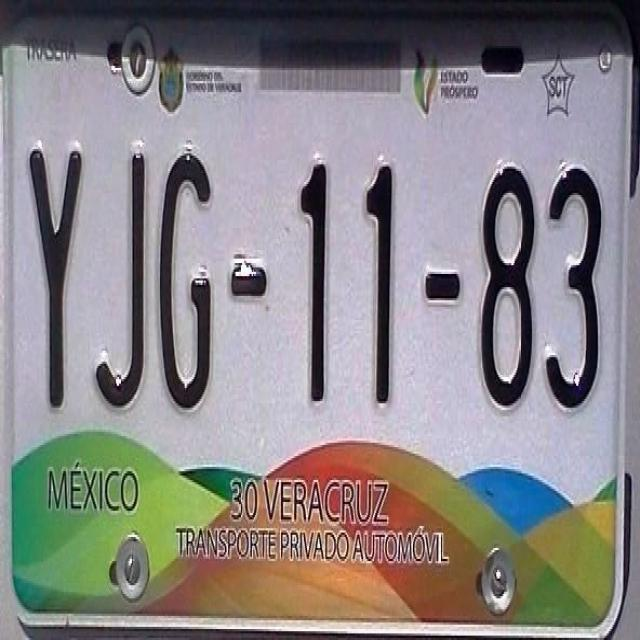placa: (6, 112, 620, 440)
